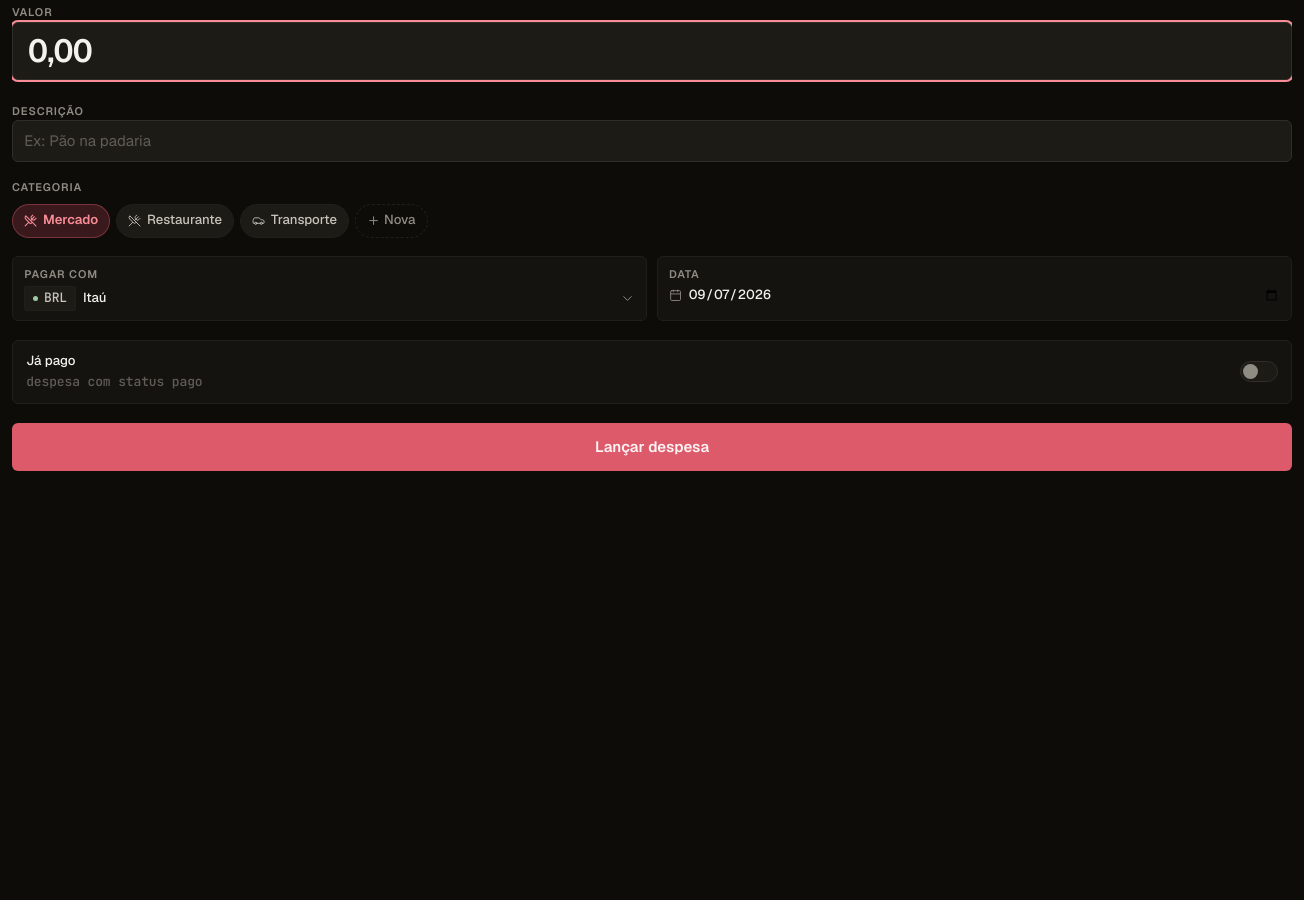
it: <LancarForm> › C11 — escolher 3× atualiza o preview com o valor da parcela
The image size is (1304, 900).
Type "300,00" into the field labelled "Valor" at (652, 51), box [12,22,1292,80]
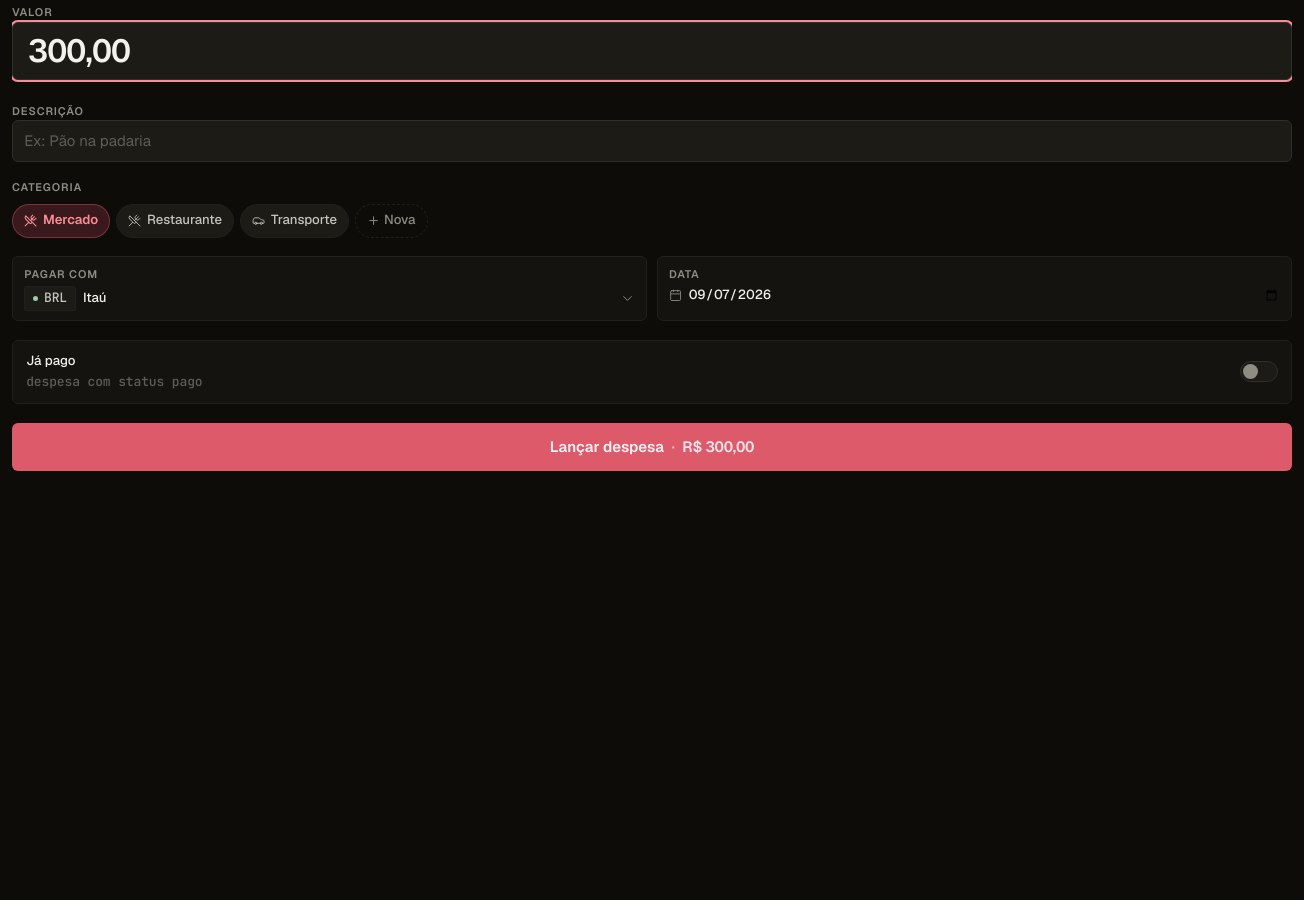
Click the dropdown named "Pagar com" at (95, 298), box [83,289,635,308]
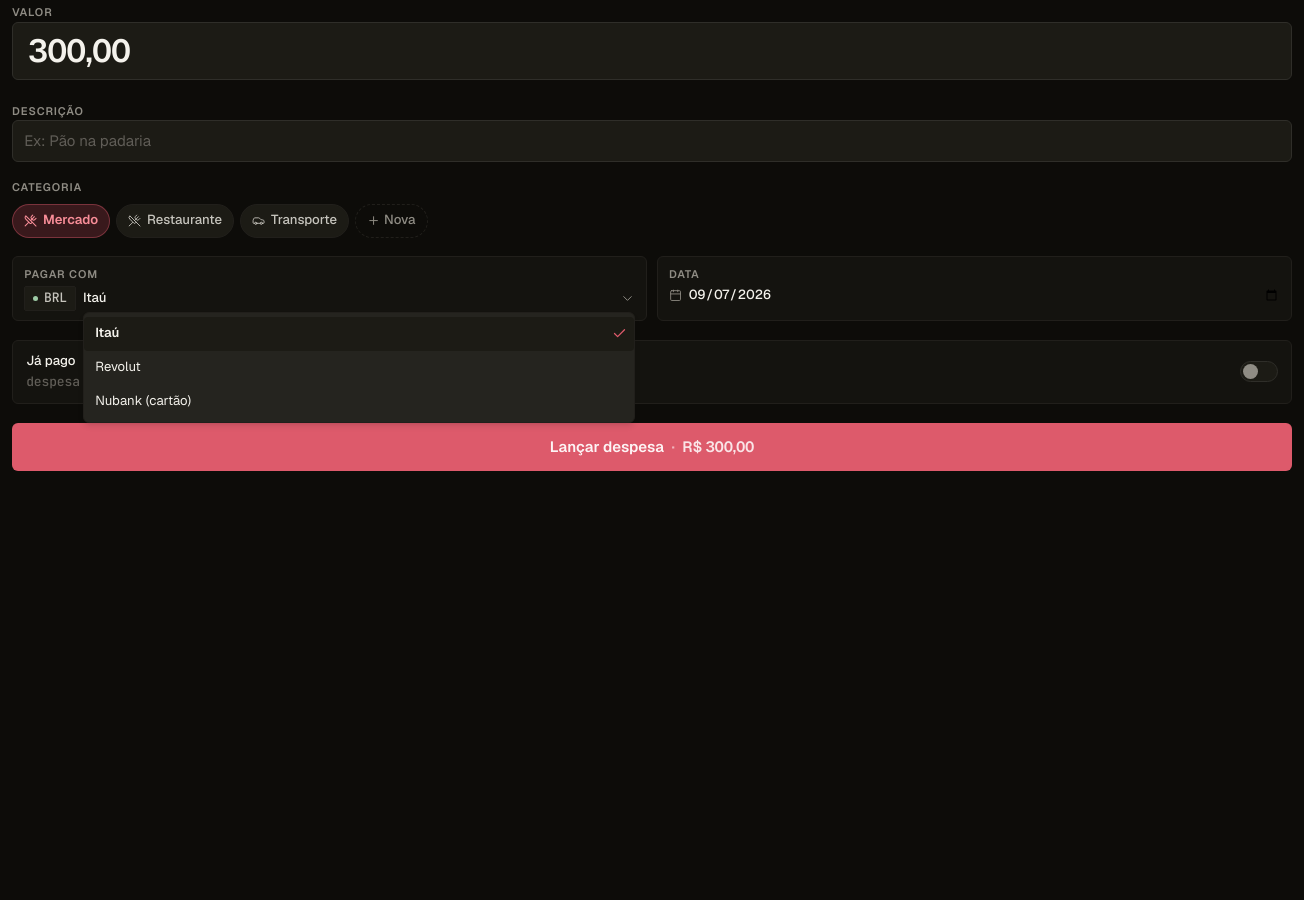
Click the option "Nubank (cartão)" at (143, 400), box [95,392,191,409]
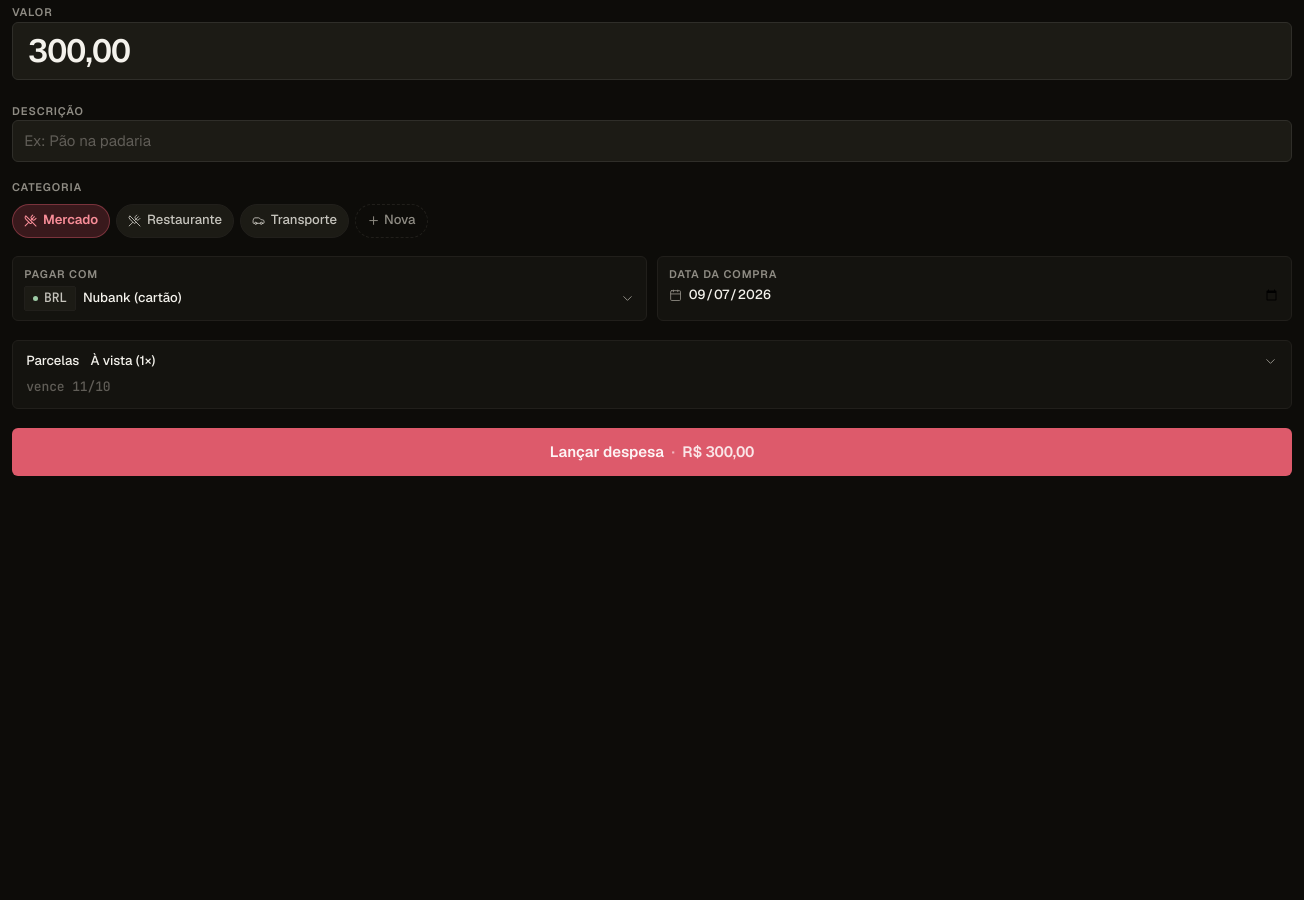
Click the dropdown named "Parcelas" at (123, 361), box [90,352,1278,371]
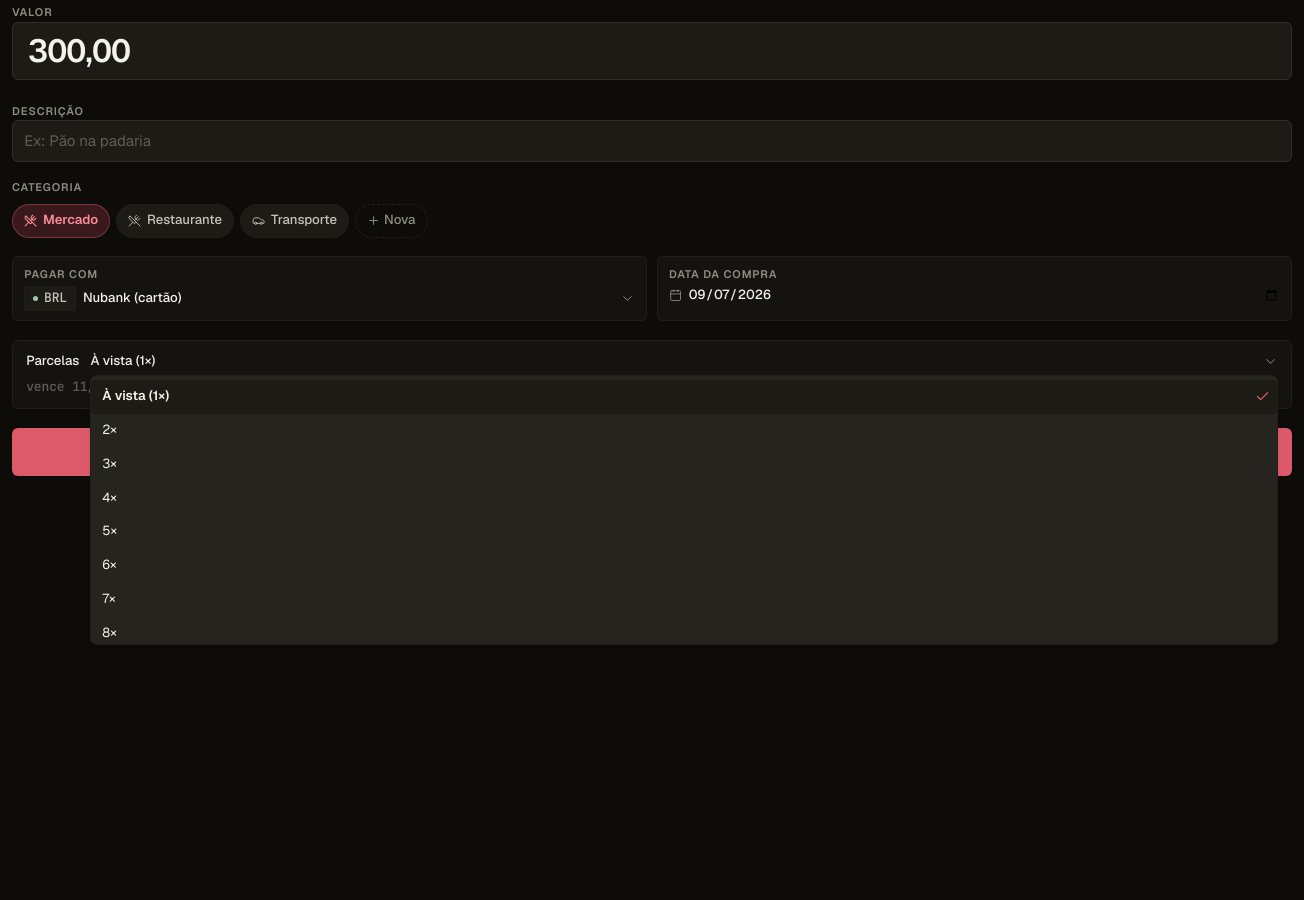
Click the option "3×" at (110, 463), box [102,455,117,472]
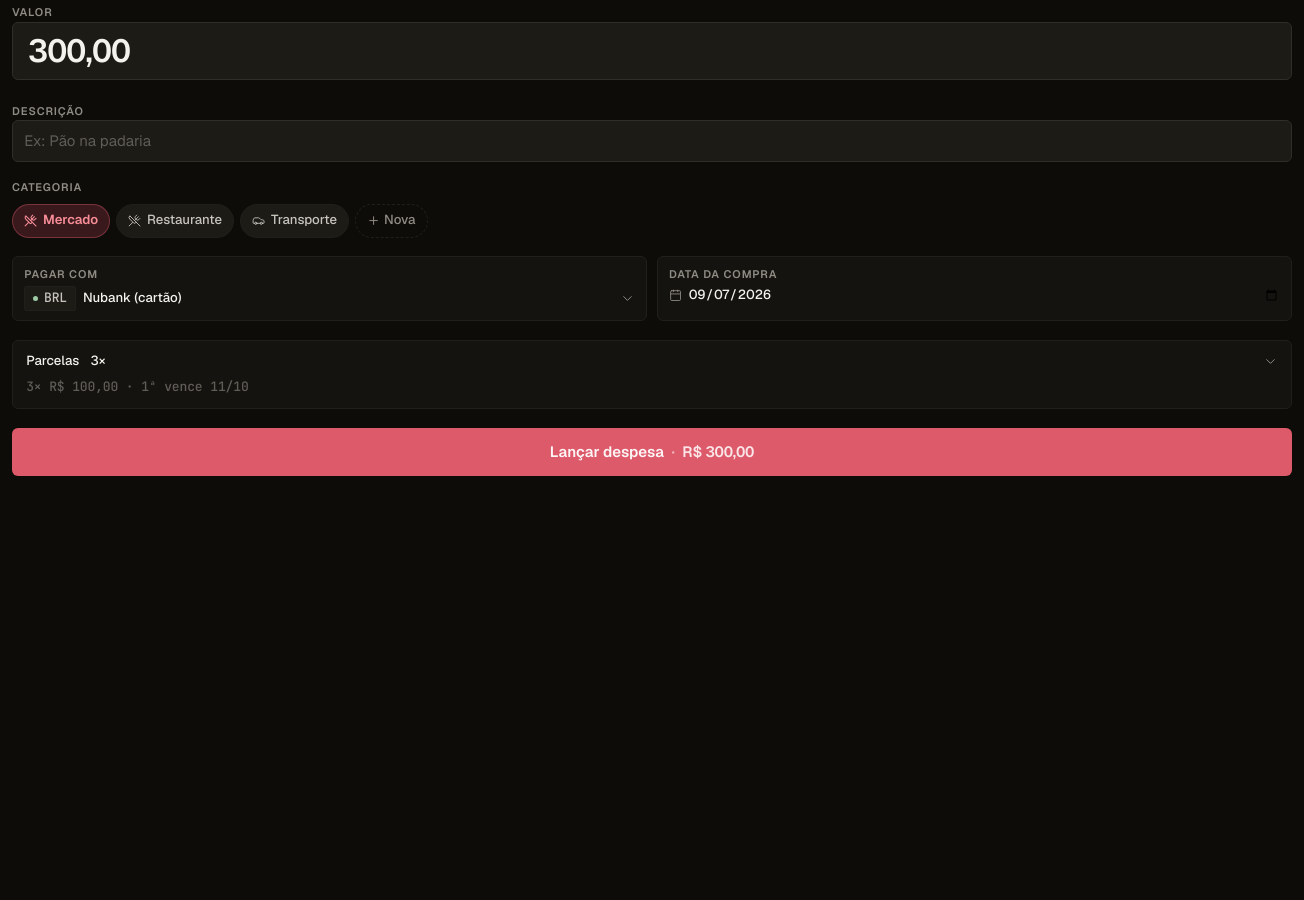
Result: the text with test id "card-due-preview" shows "3× R$ 100,00" at [26,378,249,395]
